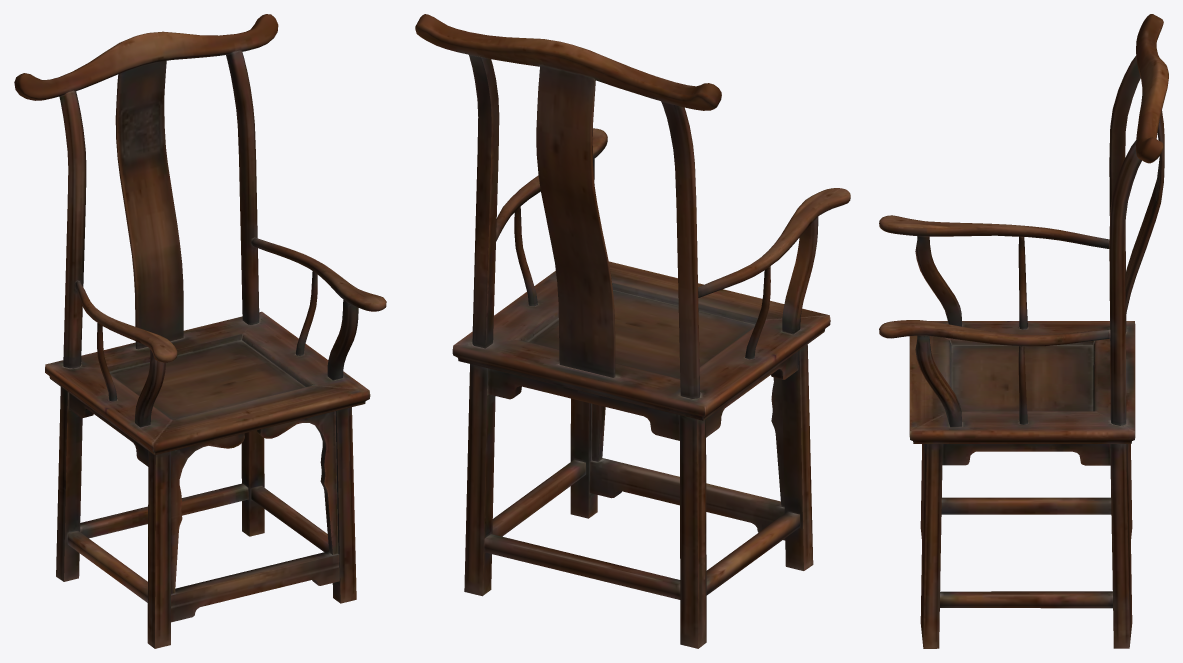
The model's file is chinese-armchair.glb.
3 views of the same model, side by side, from view 1: azimuth 30°, elevation 25°; view 2: azimuth 150°, elevation 25°; view 3: azimuth 270°, elevation 25° (orthographic). The views are drawn at different scales.
Parts seen in each view (by area): view 1: chinese_armchair; view 2: chinese_armchair; view 3: chinese_armchair.
Part boxes in pixels (x1,y1,x2,y2): chinese_armchair: [14, 14, 386, 648]; chinese_armchair: [415, 14, 850, 648]; chinese_armchair: [879, 14, 1168, 648].
Size of the model in its own units: 0.6145 by 1.15 by 0.5713.
Materials: 1 (1 with a texture image).
